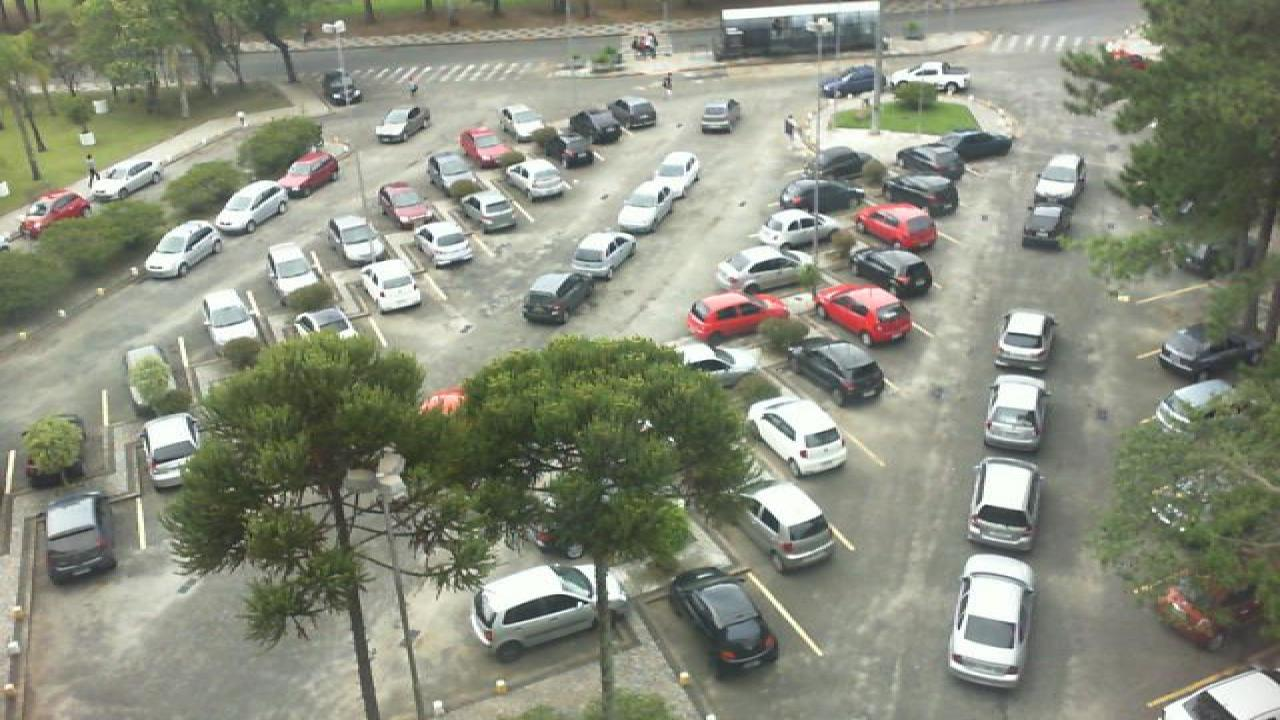Car: (468, 562, 638, 660), (944, 552, 1036, 688), (670, 562, 782, 670), (732, 480, 840, 570), (744, 396, 850, 477), (964, 453, 1046, 549), (40, 490, 118, 582), (790, 332, 888, 403), (1156, 667, 1280, 720), (682, 287, 792, 346), (814, 282, 914, 344), (1154, 321, 1258, 379), (980, 369, 1048, 449), (712, 242, 816, 294), (1152, 376, 1238, 433), (140, 218, 220, 279), (142, 412, 206, 487), (760, 206, 854, 256), (676, 340, 766, 391), (852, 201, 940, 252), (848, 245, 934, 297), (214, 177, 290, 235), (520, 270, 596, 324), (992, 307, 1058, 369), (88, 156, 164, 205), (8, 189, 90, 234), (616, 181, 682, 235), (568, 231, 640, 280), (202, 288, 262, 346), (884, 172, 960, 217), (278, 143, 342, 196), (362, 256, 422, 312), (780, 177, 864, 216), (886, 58, 972, 96), (1032, 152, 1088, 208), (642, 148, 704, 198), (414, 218, 476, 267), (1020, 196, 1078, 248), (458, 187, 522, 234), (502, 158, 568, 202), (290, 304, 364, 343), (266, 242, 320, 295), (894, 142, 968, 180), (326, 214, 382, 263), (818, 63, 890, 100), (376, 180, 432, 227), (424, 148, 480, 194), (938, 128, 1012, 159), (374, 105, 430, 144), (802, 144, 860, 180), (462, 125, 512, 166), (560, 108, 616, 144), (542, 130, 596, 167), (500, 102, 546, 143), (322, 71, 364, 107), (700, 97, 742, 133), (614, 97, 660, 129)
